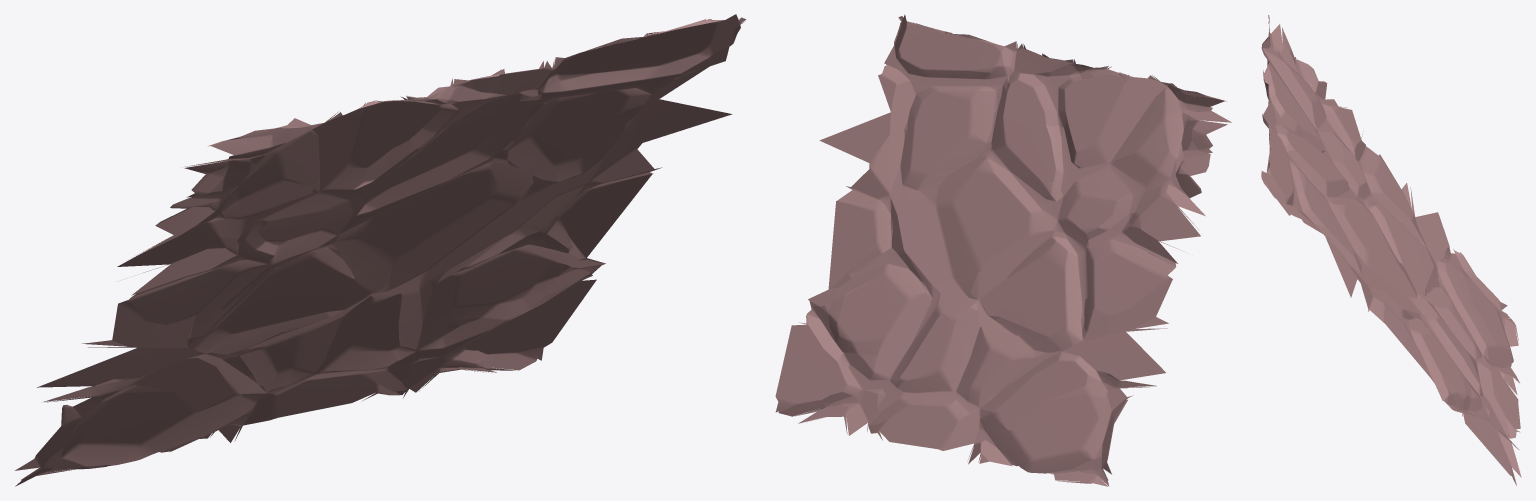
File: plateau.fbx_Rock_Plateau_026LODs.fbx
The picture shows the model from 3 angles, left to right: view 1: azimuth 30°, elevation 25°; view 2: azimuth 150°, elevation 25°; view 3: azimuth 270°, elevation 25°; orthographic projection. The views are drawn at different scales.
Parts seen in each view (by area): view 1: Rock Plateau.026_LOD0; view 2: Rock Plateau.026_LOD0; view 3: Rock Plateau.026_LOD0.
Boxes of the visible parts, x1,y1,x2,y2 form: Rock Plateau.026_LOD0: (14,14,746,486); Rock Plateau.026_LOD0: (775,14,1231,486); Rock Plateau.026_LOD0: (1261,15,1521,485).
Size of what is drawn, in the model's own units: 4006 by 3079 by 2274.
